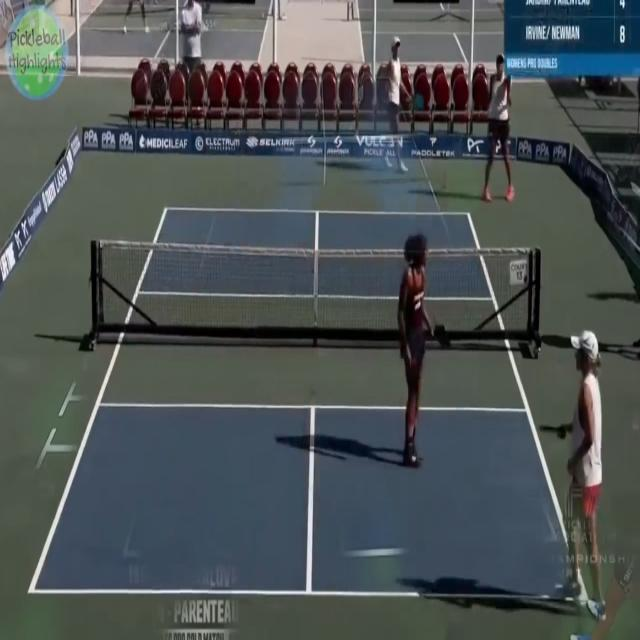Court: (31, 207, 588, 599)
